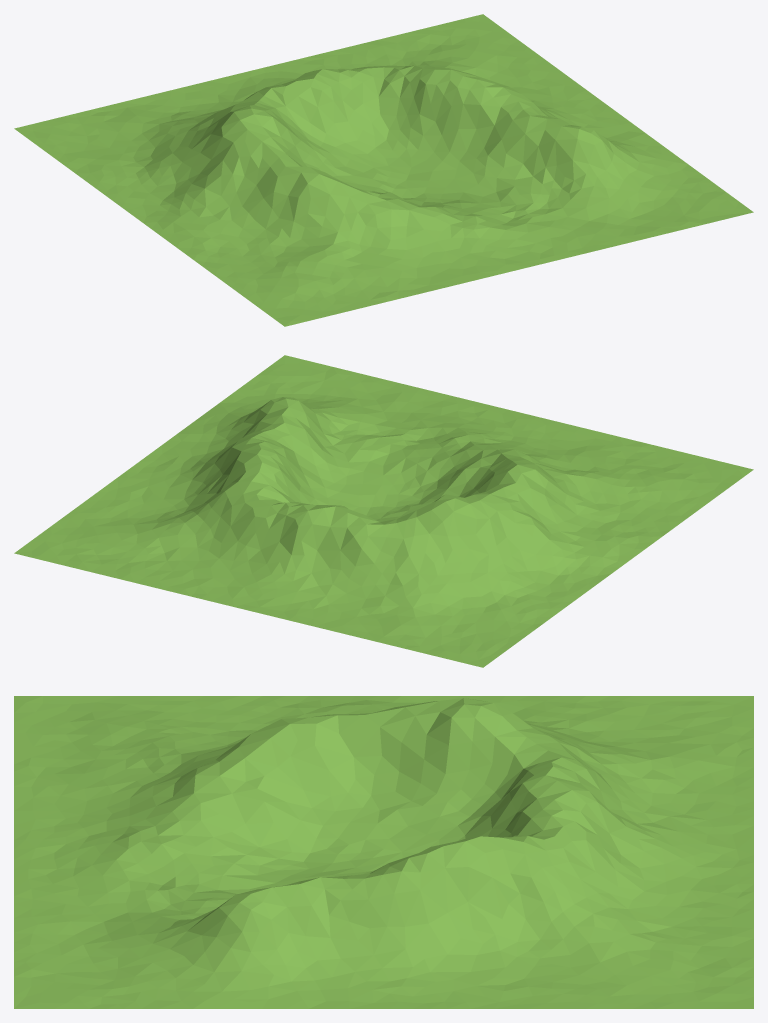
File: MT_Terrain_L_a_26.fbx
3 renders of one model, top to bottom at view 1: azimuth 30°, elevation 25°; view 2: azimuth 150°, elevation 25°; view 3: azimuth 270°, elevation 25°, orthographic. The views are drawn at different scales.
Visible parts, largest first — view 1: MT_Terrain_L_a_26; view 2: MT_Terrain_L_a_26; view 3: MT_Terrain_L_a_26.
Part boxes in pixels (left/top/right/bottom): MT_Terrain_L_a_26: left=14, top=14, right=753, bottom=326; MT_Terrain_L_a_26: left=14, top=355, right=753, bottom=667; MT_Terrain_L_a_26: left=14, top=696, right=753, bottom=1008.
Size of the model in its own units: 10000 by 1344 by 10000.
